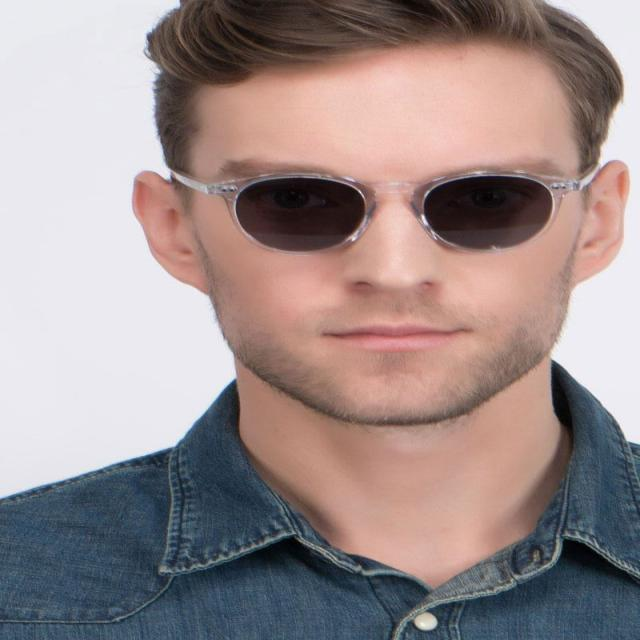2_gafas: (167, 163, 600, 256)
